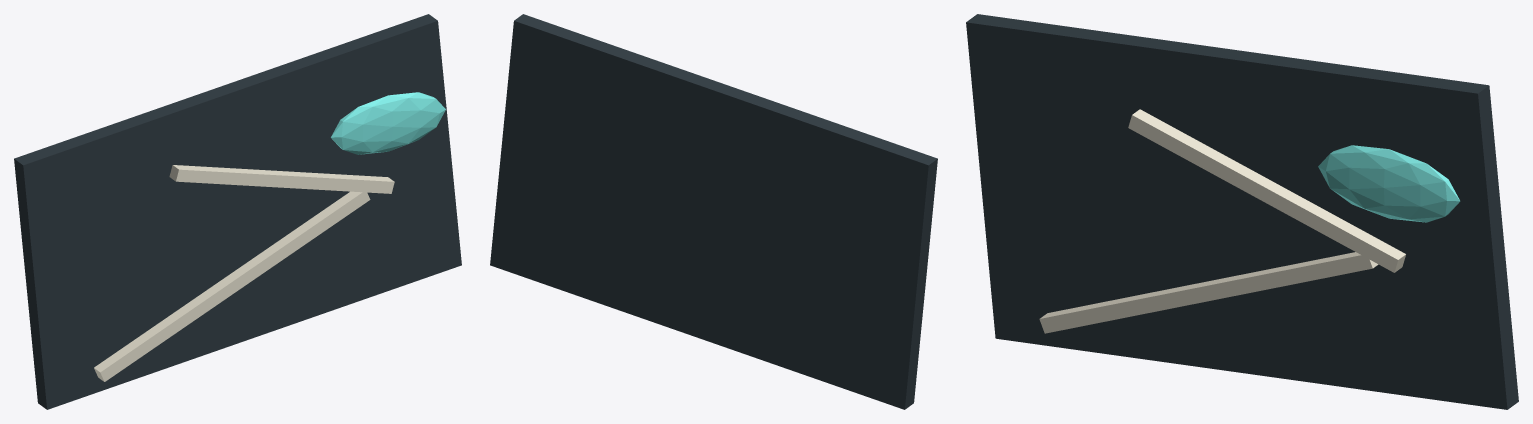
Rendered from 06_weathering_wear_overlay_6.glb.
The picture shows the model from 3 angles, left to right: view 1: azimuth 30°, elevation 25°; view 2: azimuth 150°, elevation 25°; view 3: azimuth 330°, elevation 25°; orthographic projection. The views are drawn at different scales.
Visible parts, largest first — view 1: wear_plate, scratch_a, rust_or_moss_spot, scratch_b; view 2: wear_plate; view 3: wear_plate, rust_or_moss_spot, scratch_b, scratch_a.
Boxes of the visible parts, box(x1,y1,x2,y2) form: wear_plate: box(14, 14, 461, 409); scratch_a: box(94, 191, 370, 381); rust_or_moss_spot: box(331, 92, 445, 154); scratch_b: box(169, 165, 394, 193); wear_plate: box(490, 14, 937, 409); wear_plate: box(966, 14, 1518, 409); rust_or_moss_spot: box(1318, 145, 1460, 222); scratch_b: box(1128, 109, 1405, 272); scratch_a: box(1039, 252, 1378, 333).
Size of the model in its own units: 1.37 by 0.8757 by 0.134.
